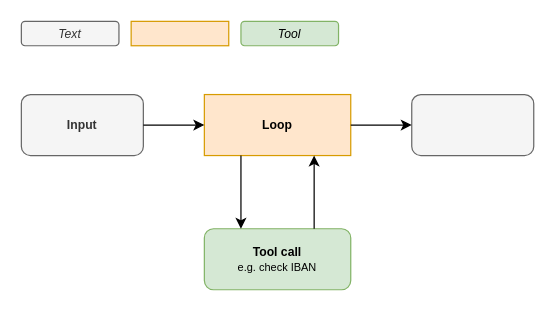
Image size: 555x311. Some labels were removed from this diagram. The shapes that lost their labels are listed below. From the top down, each one's box as (x1, y1, x2, y2) in pixels, then its label:
(130, 20, 229, 46): Agent step
(411, 93, 534, 156): Output
